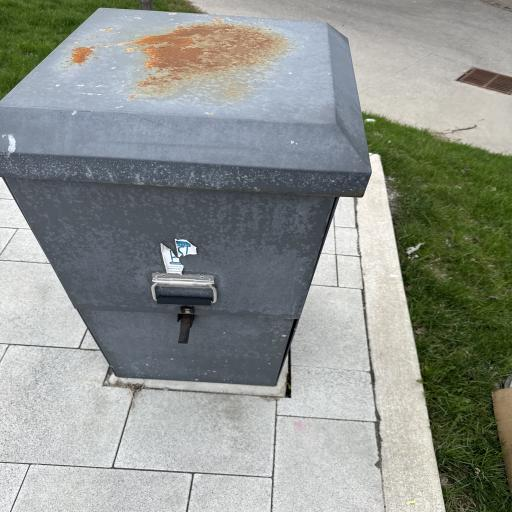Electrical Box: (0, 8, 375, 384)
